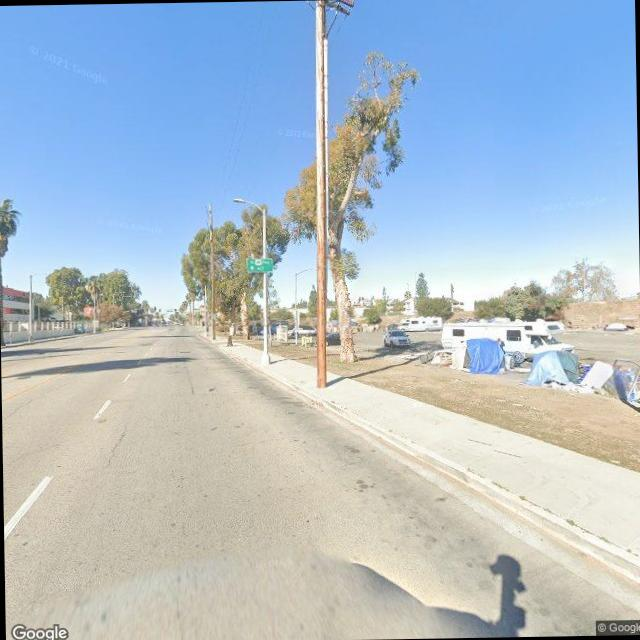crack: (101, 420, 128, 466)
